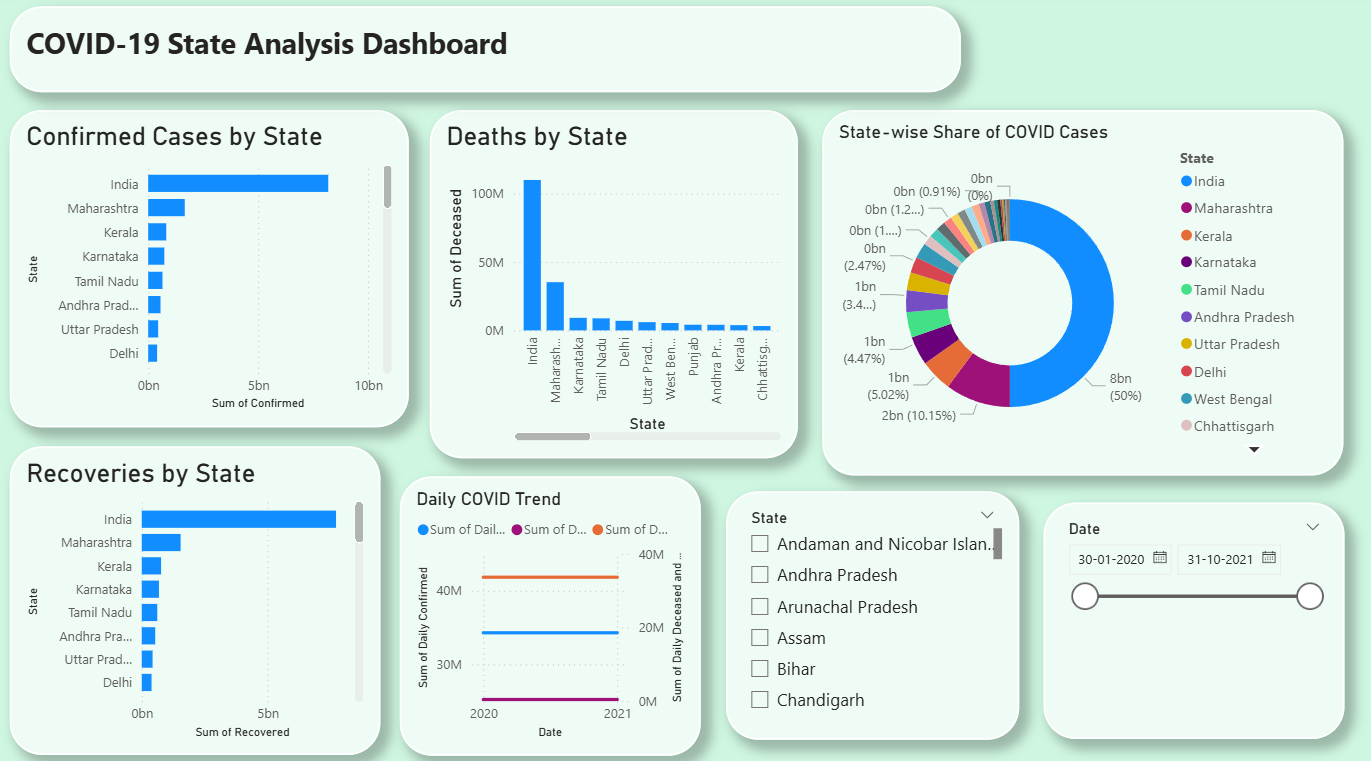

The page's visual inventory and layout, read from the dashboard file:
{"tool":"powerbi","page":{"name":"COVID Cases Analysis","canvas":[1280,720],"ordinal":1},"visuals":[{"type":"clusteredBarChart","title":"Confirmed Cases by State","fields":{"Category":["raw_data_Indian_states.State"],"Y":["Sum(raw_data_Indian_states.Confirmed)"]},"box":[12.5,107.5,371.3,295.1],"z":0},{"type":"clusteredBarChart","title":"Recoveries by State","fields":{"Category":["raw_data_Indian_states.State"],"Y":["Sum(raw_data_Indian_states.Recovered)"]},"box":[12.5,420.1,345.1,287.6],"z":1000},{"type":"clusteredColumnChart","title":"Deaths by State","fields":{"Category":["raw_data_Indian_states.State"],"Y":["Sum(raw_data_Indian_states.Deceased)"]},"box":[403.8,107.5,342.6,323.8],"z":2000},{"type":"lineChart","title":"Daily COVID Trend","fields":{"Category":["raw_data_Indian_states.Date"],"Y":["Sum(case_time_series - case_time_series.Daily Confirmed)"],"Y2":["Sum(case_time_series - case_time_series.Daily Deceased)","Sum(case_time_series - case_time_series.Daily Recovered)"]},"box":[375.1,447.6,280.1,260.1],"z":3000},{"type":"donutChart","title":"State-wise Share of COVID Cases","fields":{"Category":["raw_data_Indian_states.State"],"Y":["Sum(raw_data_Indian_states.Confirmed)"]},"box":[768.9,107.5,485.1,340.1],"z":4000},{"type":"slicer","fields":{"Values":["raw_data_Indian_states.Date"]},"box":[973.9,472.6,280.1,220],"z":5000},{"type":"slicer","fields":{"Values":["raw_data_Indian_states.State"]},"box":[678.9,461.3,272.6,231.3],"z":6000},{"type":"textbox","box":[12.5,10,885.2,80],"z":7000}]}

Visuals, with their boxes in screenshot pixels (x1, y1, x2, y2), scaled from the page's 1280x720 canvas onto the 1371x761 screenshot:
"Confirmed Cases by State" clusteredBarChart: <box>13,114,411,426</box>
"Recoveries by State" clusteredBarChart: <box>13,444,383,748</box>
"Deaths by State" clusteredColumnChart: <box>433,114,799,456</box>
"Daily COVID Trend" lineChart: <box>402,473,702,748</box>
"State-wise Share of COVID Cases" donutChart: <box>824,114,1343,473</box>
slicer - raw_data_Indian_states.Date: <box>1043,500,1343,732</box>
slicer - raw_data_Indian_states.State: <box>727,488,1019,732</box>
textbox: <box>13,11,962,95</box>
